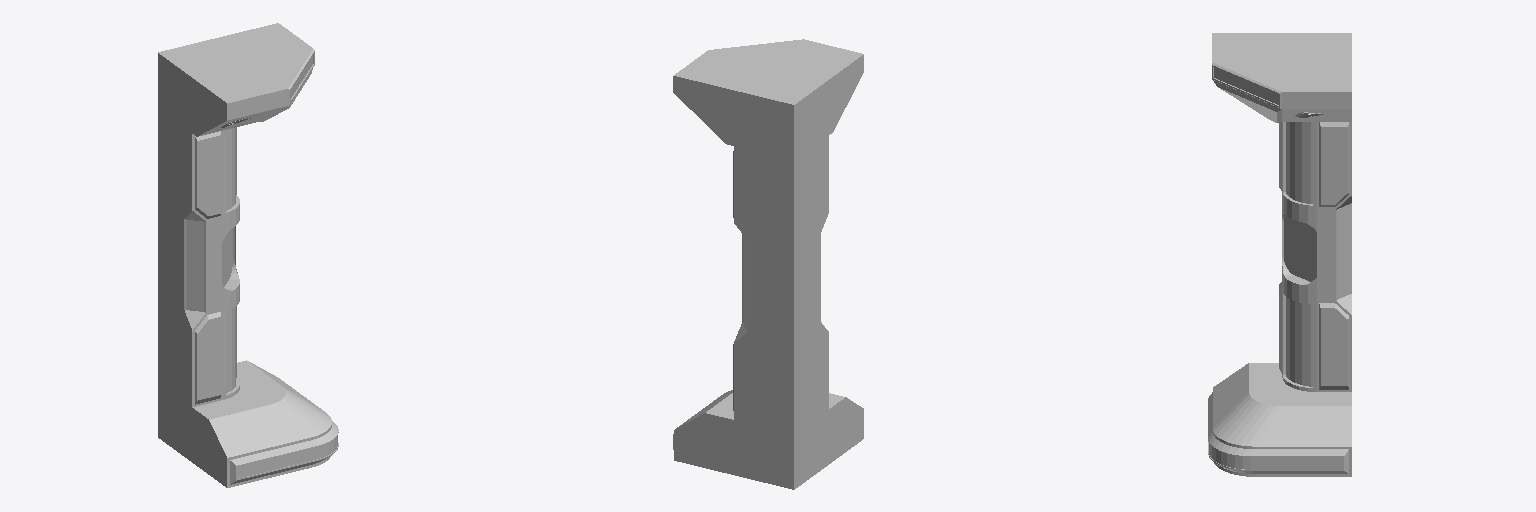
The model's file is Sci Fi Cross Bridge.obj.
The picture shows the model from 3 angles: view 1: azimuth 30°, elevation 25°; view 2: azimuth 150°, elevation 25°; view 3: azimuth 270°, elevation 25°; orthographic projection.
Parts seen in each view (by area): view 1: Cube.011_Cube.018; view 2: Cube.011_Cube.018; view 3: Cube.011_Cube.018.
Boxes of the visible parts, x1=… form: Cube.011_Cube.018: x1=158, y1=23, x2=338, y2=487; Cube.011_Cube.018: x1=673, y1=39, x2=863, y2=489; Cube.011_Cube.018: x1=1208, y1=33, x2=1351, y2=476.
Size of the model in its own units: 2.35 by 6.93 by 2.35.